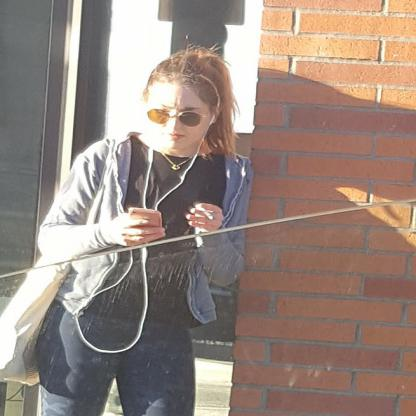smoking: (196, 204, 214, 220)
